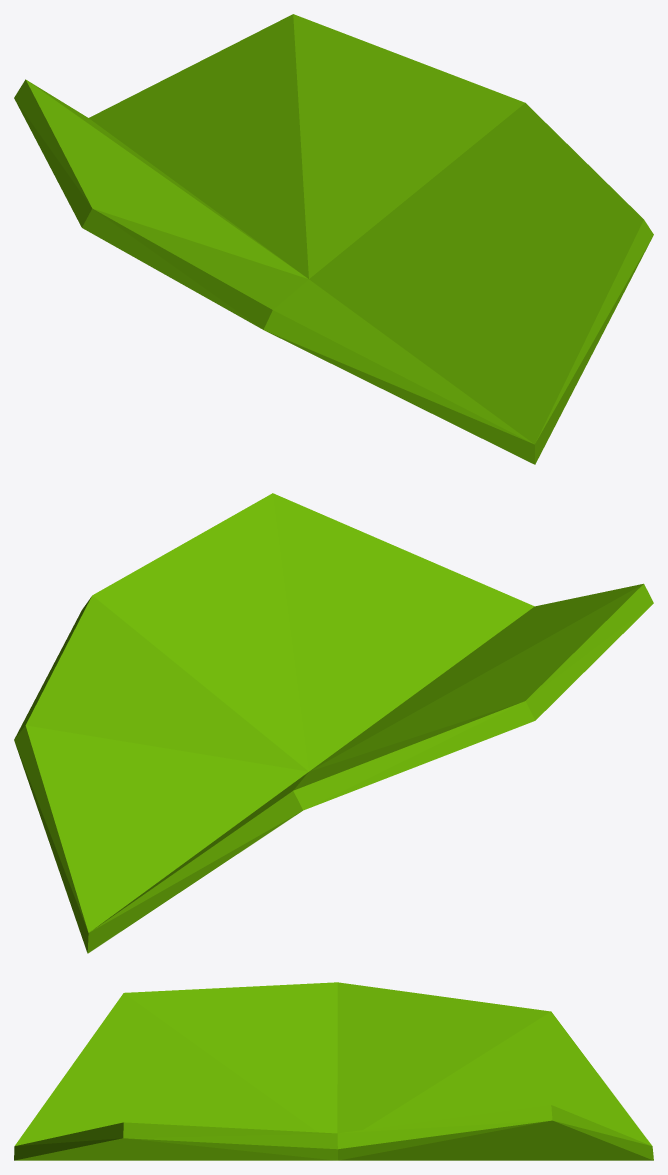
Rendered from Leaf_2.fbx.
3 renders of one model, top to bottom at view 1: azimuth 30°, elevation 25°; view 2: azimuth 150°, elevation 25°; view 3: azimuth 270°, elevation 25°, orthographic. The views are drawn at different scales.
Visible parts, largest first — view 1: Leaf.2; view 2: Leaf.2; view 3: Leaf.2.
Boxes of the visible parts, box(x1,y1,x2,y2) form: Leaf.2: box(14, 14, 653, 464); Leaf.2: box(14, 493, 653, 953); Leaf.2: box(14, 982, 653, 1160).
Bounding box in the file's own units: 11.77 × 3.57 × 20.12.
